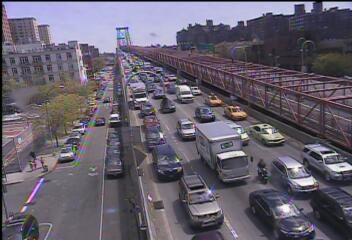neg: (58, 120, 69, 136), (44, 140, 55, 155), (21, 193, 32, 208), (69, 138, 79, 152), (9, 107, 19, 120), (51, 62, 61, 75), (13, 132, 23, 144)
pos: (36, 155, 48, 170), (25, 159, 35, 171), (31, 159, 39, 170)
